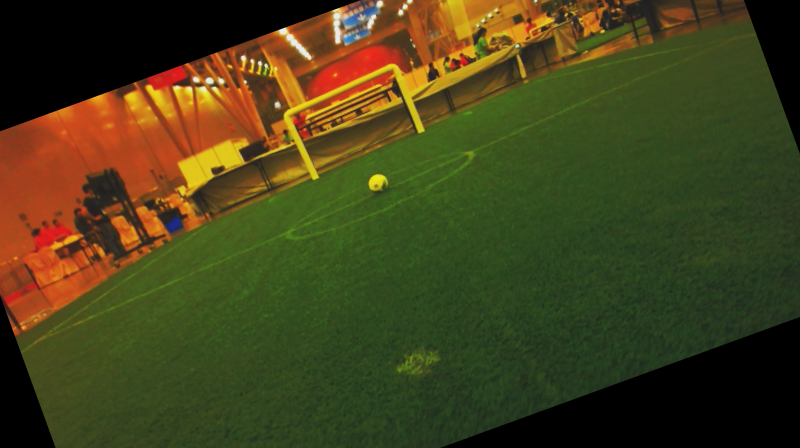post: (303, 164, 325, 190), (411, 118, 431, 140)
